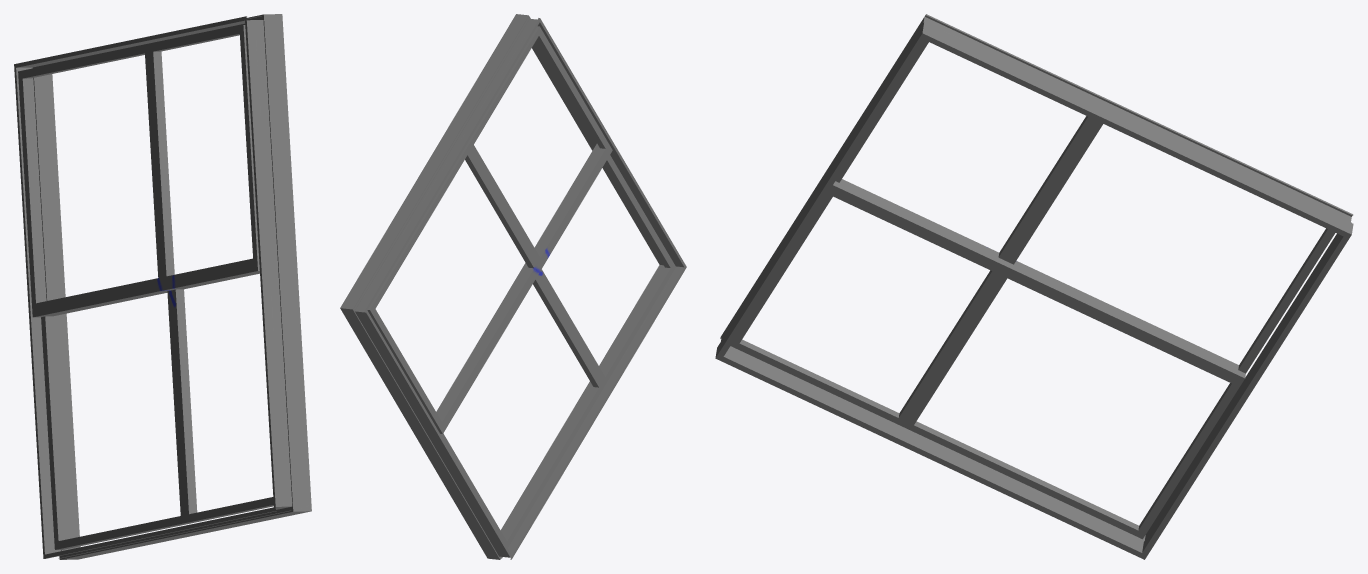
3 renders of one model, left to right at view 1: azimuth 30°, elevation 25°; view 2: azimuth 150°, elevation 25°; view 3: azimuth 270°, elevation 25°, orthographic. The views are drawn at different scales.
Parts seen in each view (by area): view 1: node_id3; view 2: node_id3; view 3: node_id3.
Part boxes in pixels (x1,y1,x2,y2): node_id3: (14, 14, 311, 559); node_id3: (340, 14, 686, 559); node_id3: (715, 14, 1353, 559).
Size of the model in its own units: 0.1309 by 0.6638 by 0.6757.
1 material, 1 textured.
